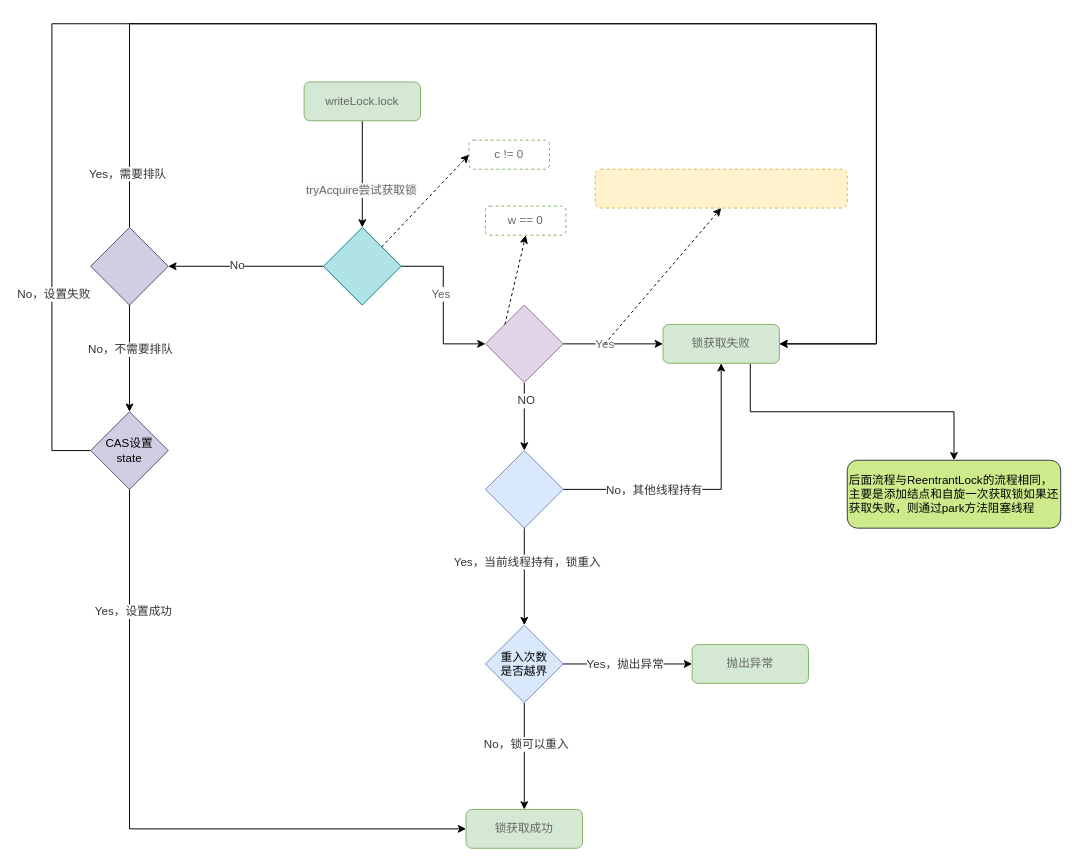
Some shapes in this 1078 by 865 pixel diagram are drawn without their labels. Each missing label, with the box of its shape:
if c != 0 and w == 0 then shared count != 0 说明有线程持有了读锁，读锁和写锁是互斥的: (594, 168, 847, 208)
写锁是 否空闲: (485, 304, 563, 383)
是否当前 线程持有: (485, 450, 563, 528)
是否需 要阻塞: (90, 226, 168, 305)
锁被持有: (323, 226, 401, 305)
